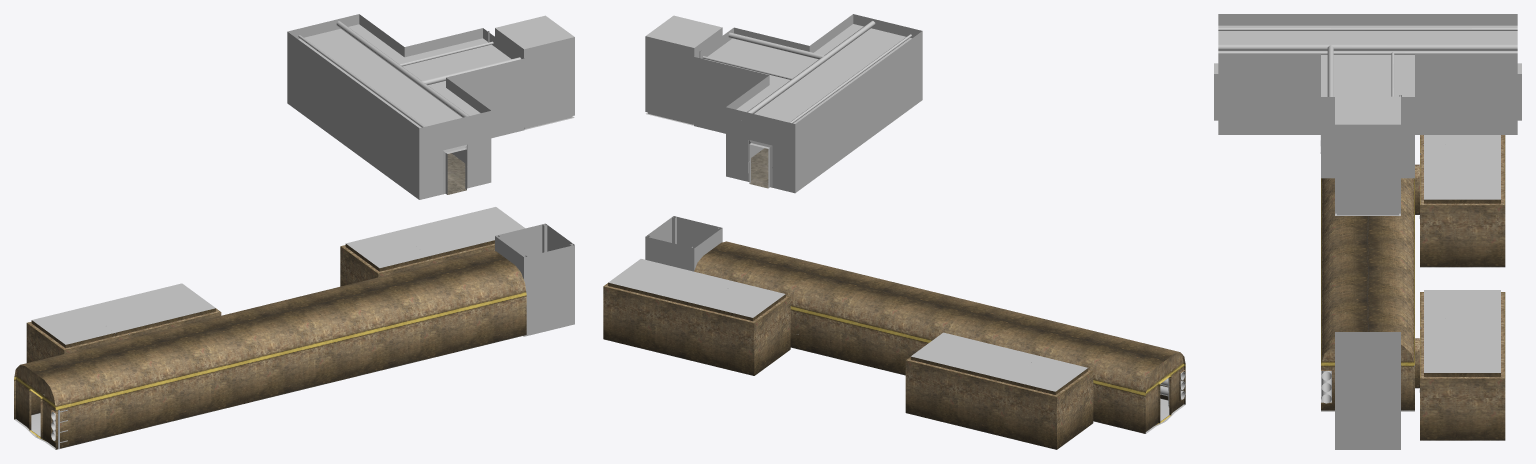
The model's file is ElevatorRoom.FBX.
3 renders of one model, left to right at view 1: azimuth 30°, elevation 25°; view 2: azimuth 150°, elevation 25°; view 3: azimuth 270°, elevation 25°, orthographic. The views are drawn at different scales.
Parts seen in each view (by area): view 1: Elevator_Room; view 2: Elevator_Room; view 3: Elevator_Room.
Boxes of the visible parts, <box> form: Elevator_Room: <box>14,14,574,449</box>; Elevator_Room: <box>603,14,1185,449</box>; Elevator_Room: <box>1214,14,1521,449</box>.
Size of what is drawn, in the model's own units: 3162 by 1653 by 1417.
